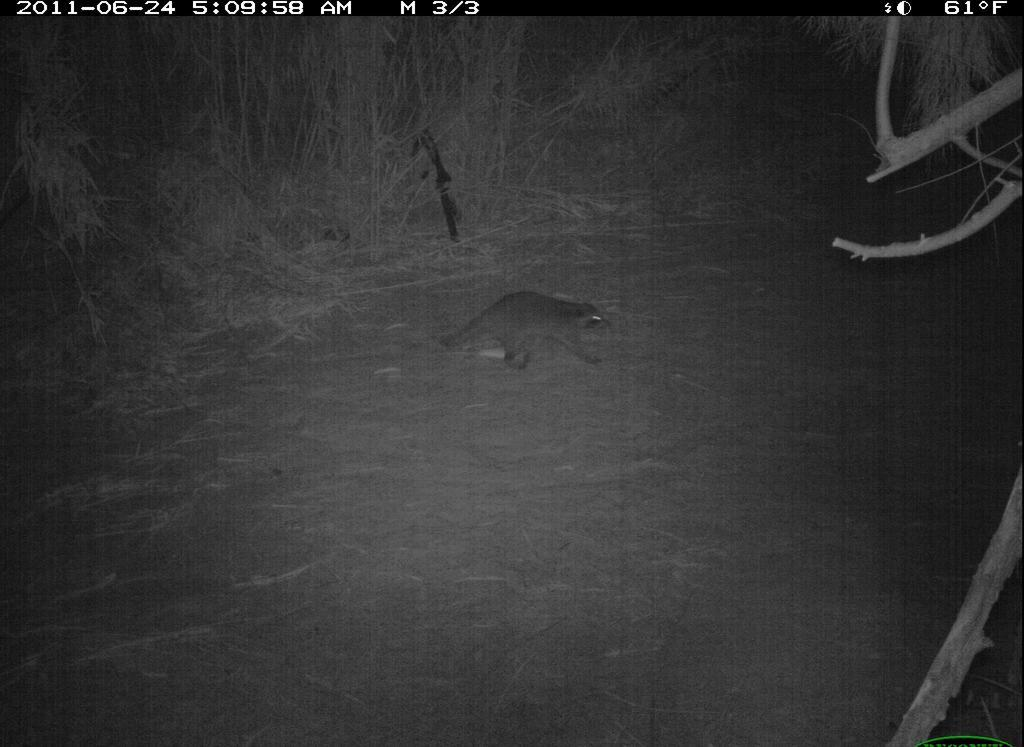raccoon: (418, 281, 634, 383)
